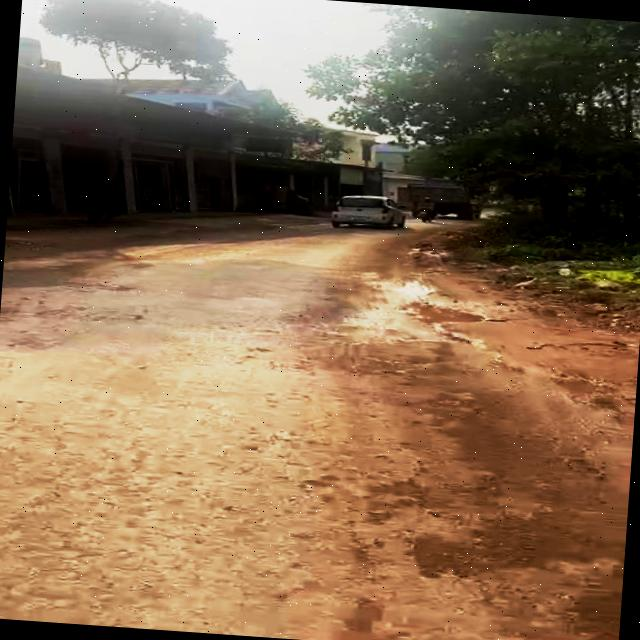pothole: (384, 295, 494, 330)
